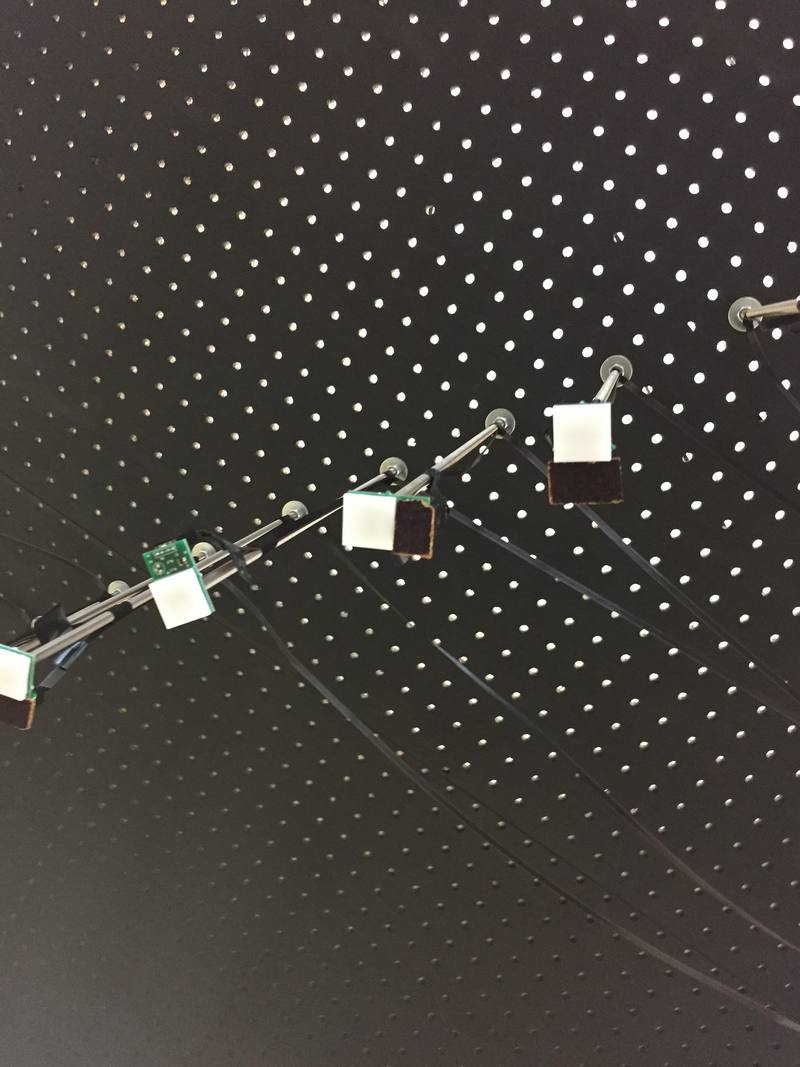target: (546, 404, 618, 469), (145, 571, 214, 632), (339, 487, 400, 550)
